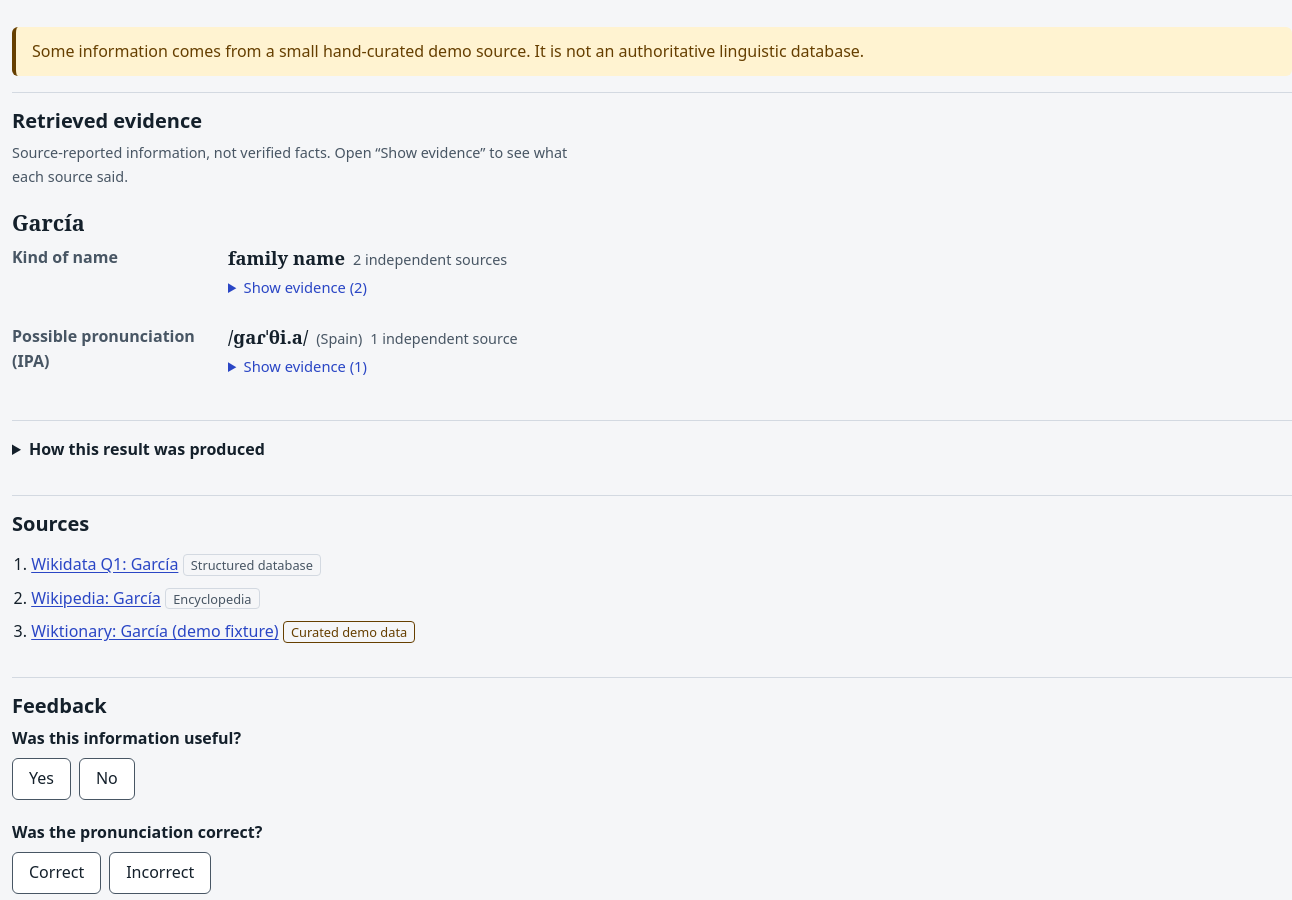
Test: uncertainty and provenance › shows the process panel using only API-provided facts
(page scrolled)
Click the heading "How this result was produced" at (147, 449), box 29,438 -> 265,460
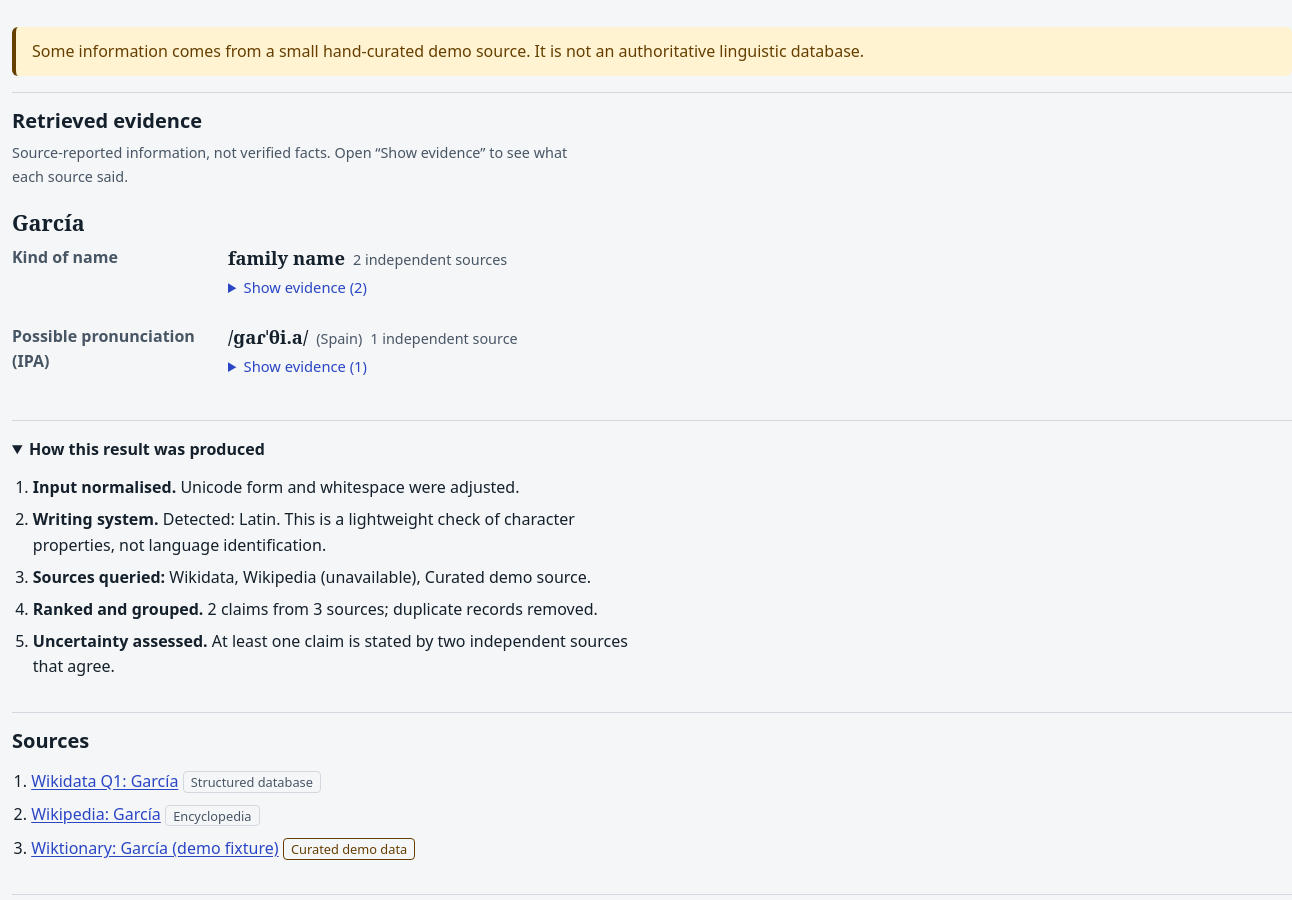
Result: the list that starts with "Input normalised." shows "Unicode form and whitespace were adjusted" at 180,476 -> 520,498
Result: the list that starts with "Input normalised." shows "Detected: Latin" at 163,508 -> 280,530
Result: the list that starts with "Input normalised." shows "Wikipedia (unavailable)" at 12,475 -> 634,680
